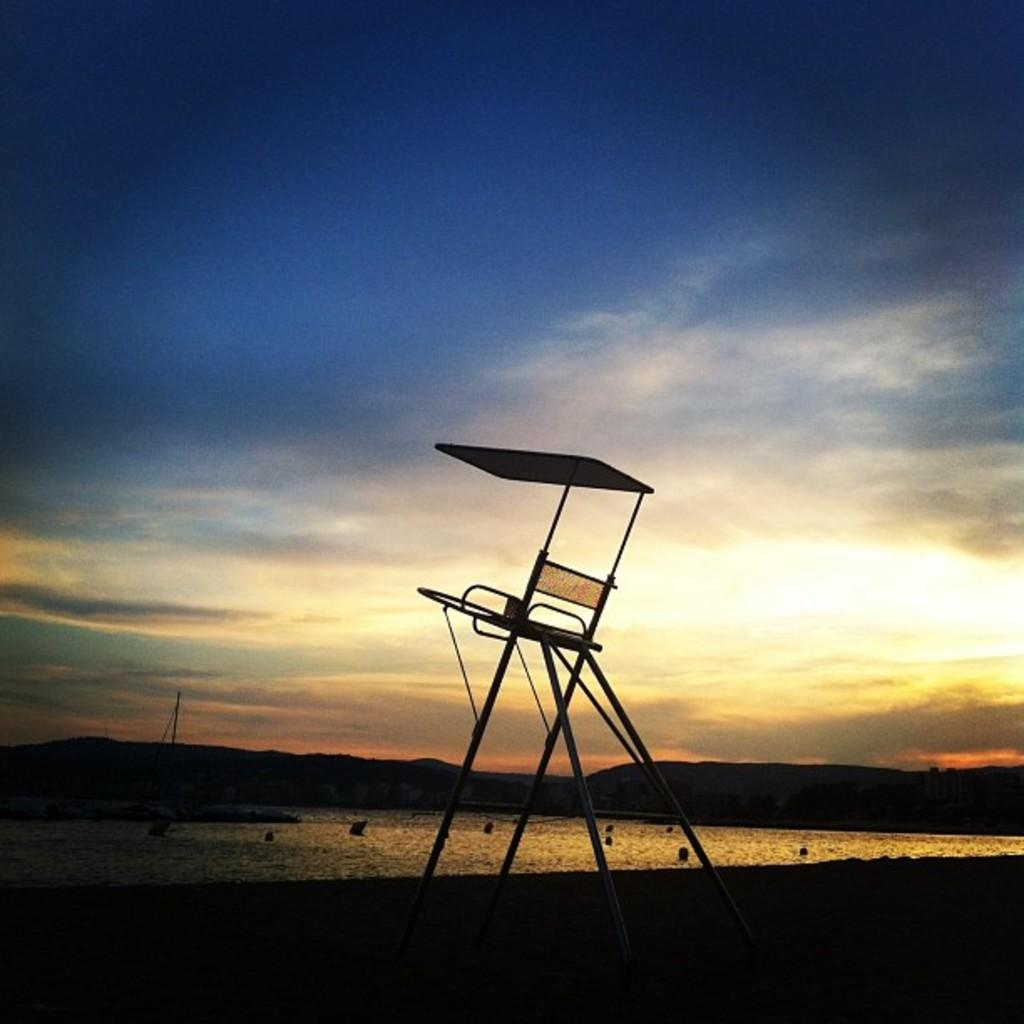Chair: (398, 397, 731, 883)
